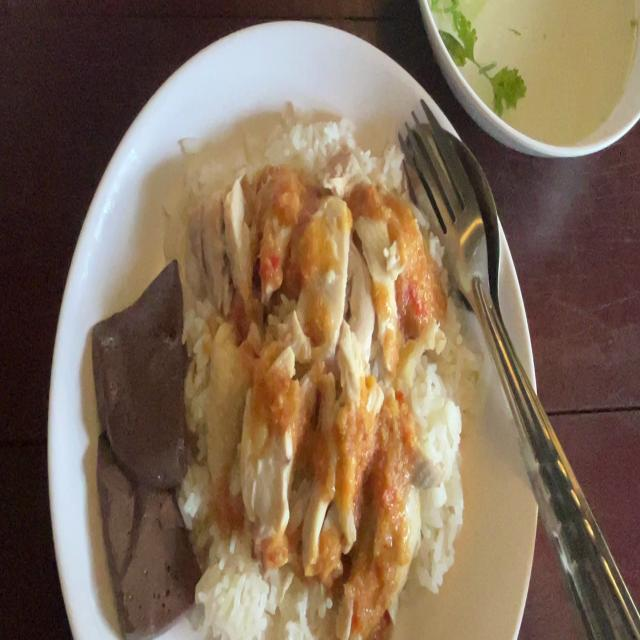chicken_rice: (196, 181, 424, 583)
noodle: (92, 254, 188, 492), (94, 435, 196, 621)
